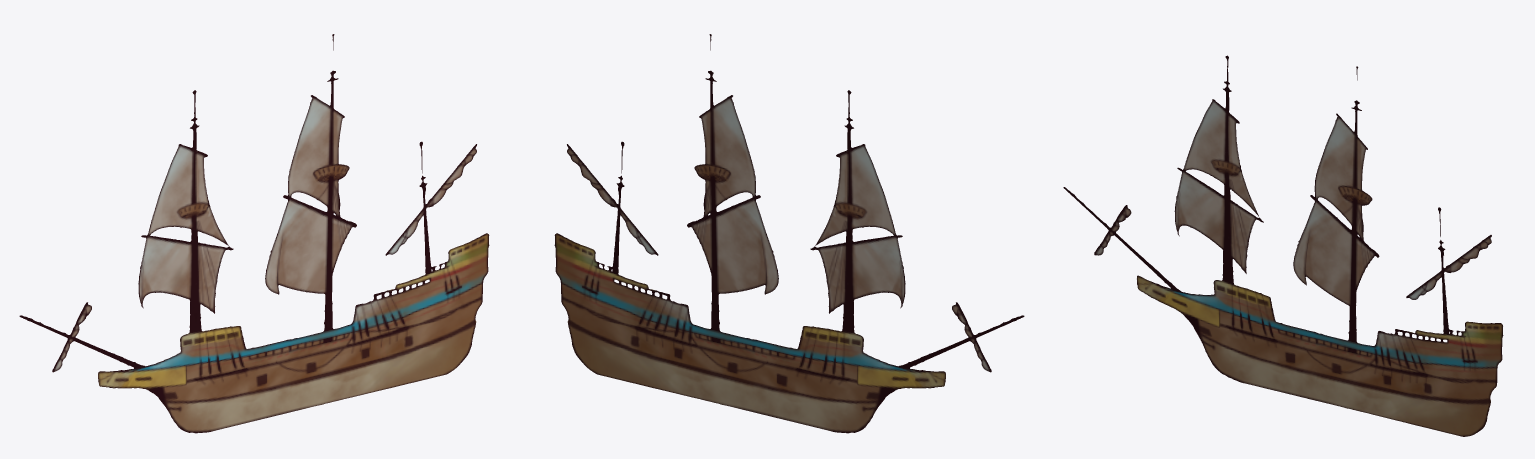
The model's file is szene1_schiff.gltf.
3 renders of one model, left to right at view 1: azimuth 30°, elevation 25°; view 2: azimuth 150°, elevation 25°; view 3: azimuth 330°, elevation 25°, orthographic. The views are drawn at different scales.
Parts seen in each view (by area): view 1: schiff; view 2: schiff; view 3: schiff.
Part boxes in pixels (x1,y1,x2,y2): schiff: (19, 34, 489, 433); schiff: (554, 34, 1024, 433); schiff: (1063, 55, 1503, 436).
Size of the model in its own units: 4 by 2.95 by 6.56e-16.
1 material, 1 textured.
